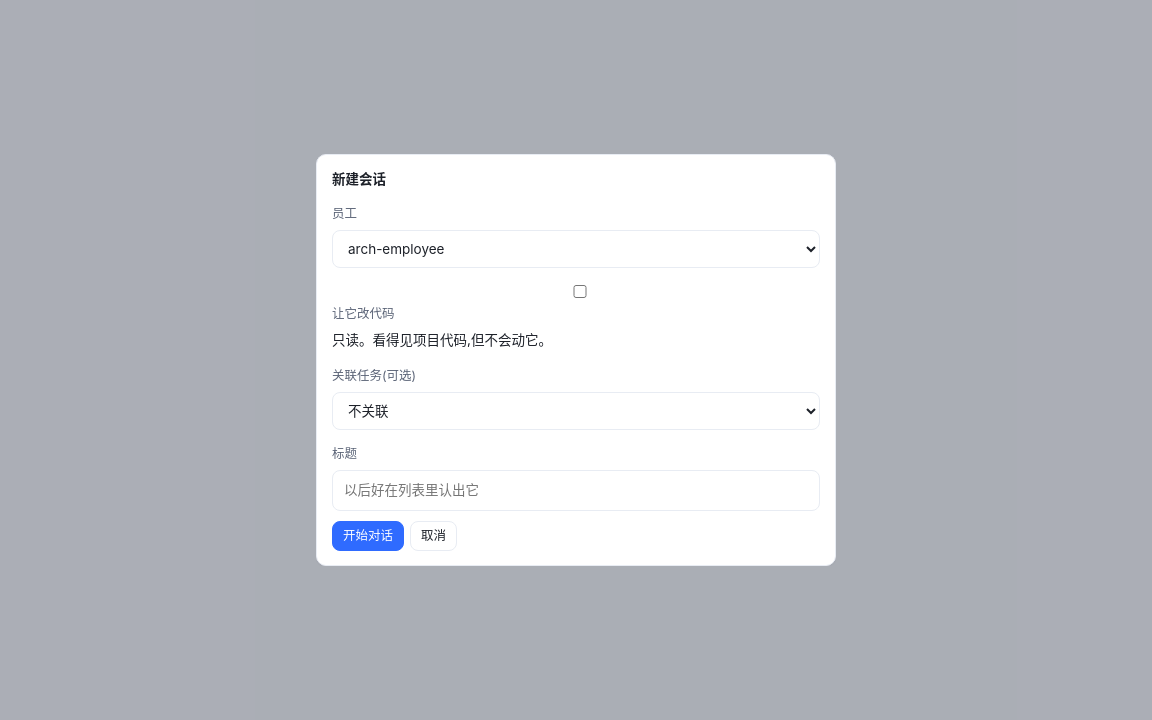
Test: NewSessionDialog › says what linking a task does, and it differs by permission
The image size is (1152, 720).
Select "ag-20260810-001 · 补偿逻辑加超时保护" in the dropdown labelled "关联任务(可选)" at (576, 411), box [332,392,820,430]
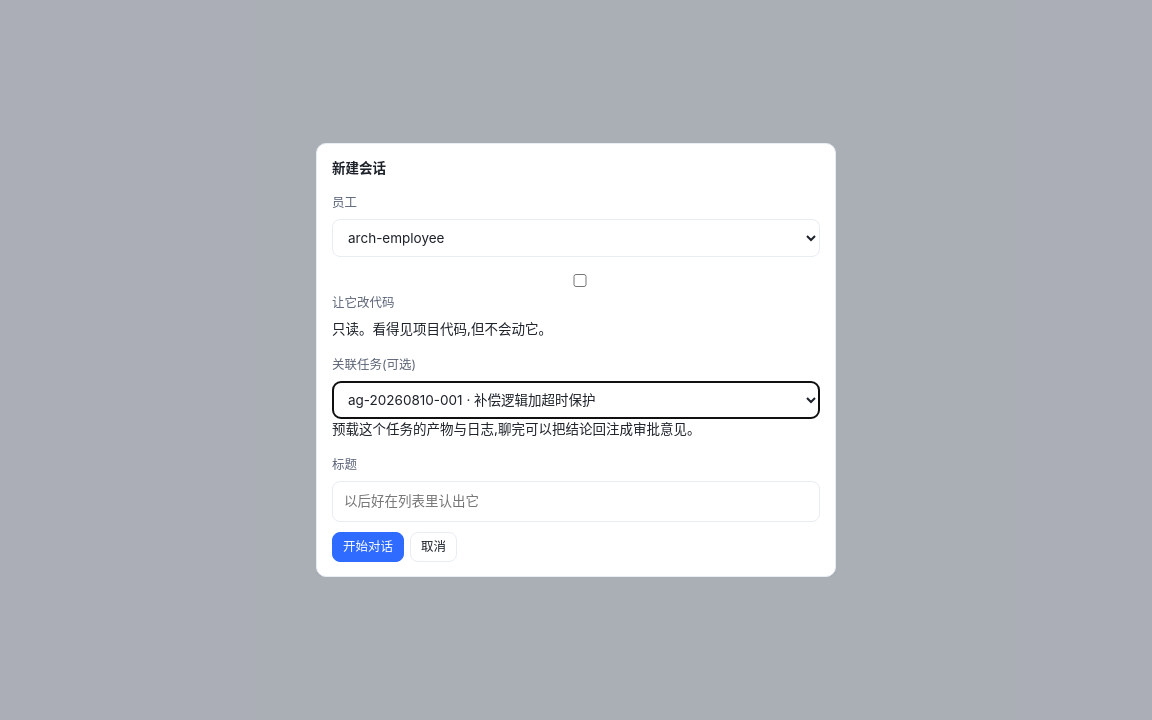
Expected: the text "预载这个任务的产物与日志,聊完可以把结论回注成审批意见。" is shown, [332,421,700,437]
Click the checkbox labelled "让它改代码".
click(580, 281)  # box [336,274,824,287]
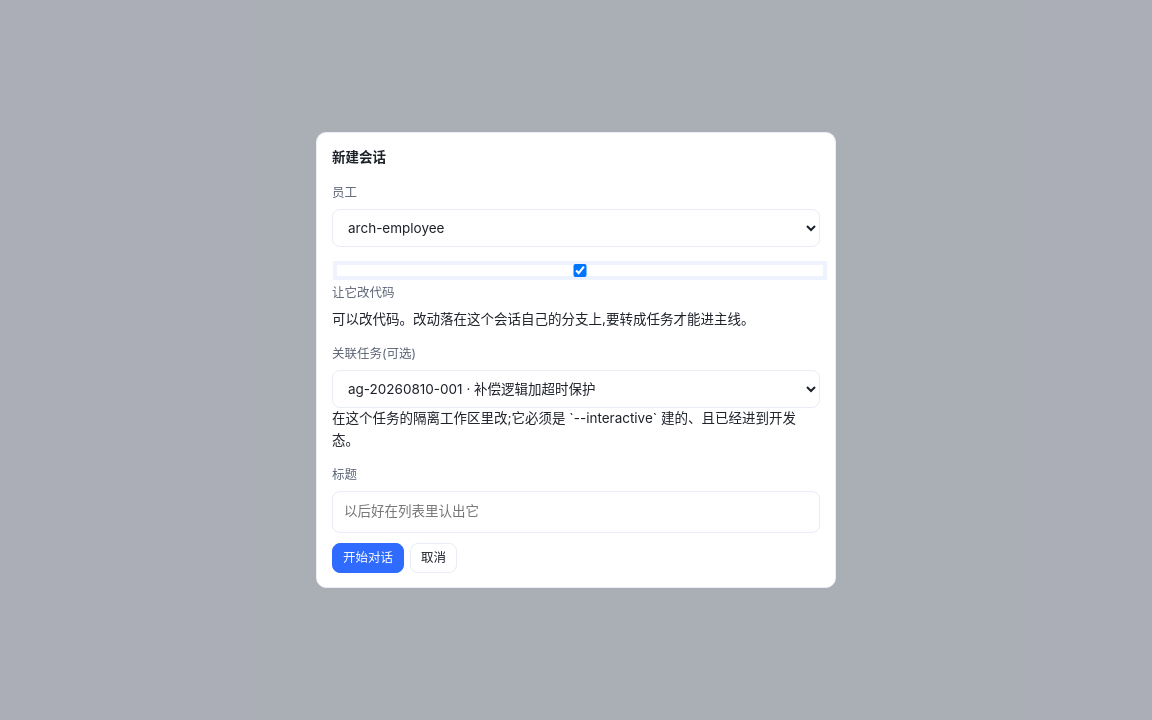
Expected: the text "在这个任务的隔离工作区里改;它必须是 `--interactive` 建的、且已经进到开发态。" is shown, [332,408,820,451]
